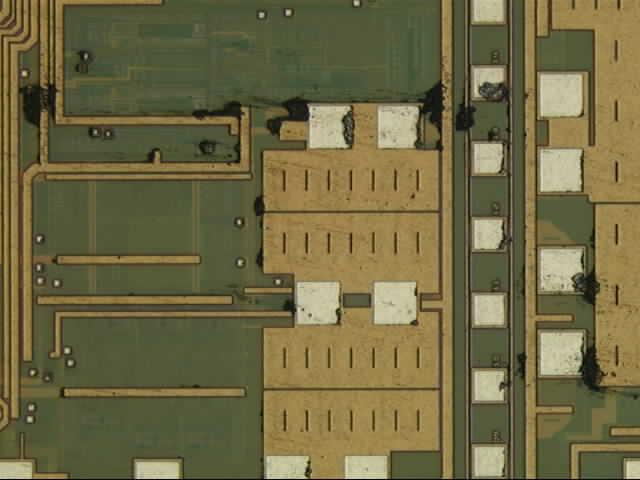PO CONTAMINATION: (13, 70, 612, 399)
